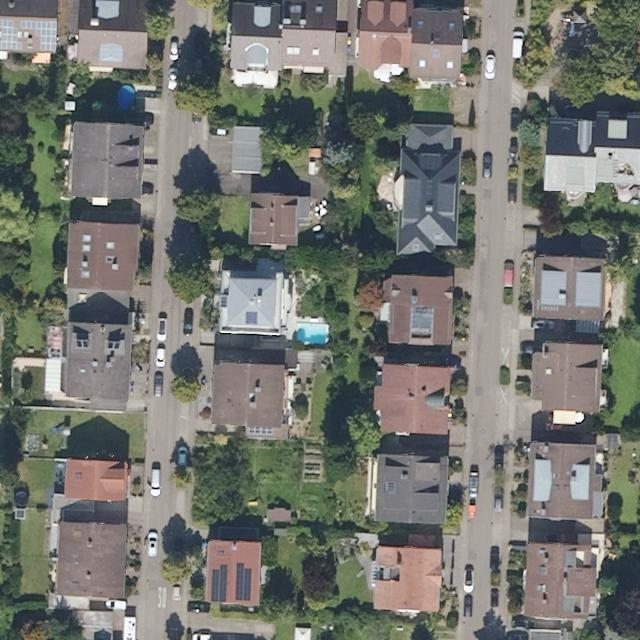PV: (18, 18, 59, 54), (209, 562, 230, 604), (233, 561, 252, 602), (1, 18, 21, 52), (242, 309, 261, 327), (74, 337, 89, 349), (107, 339, 122, 351)
